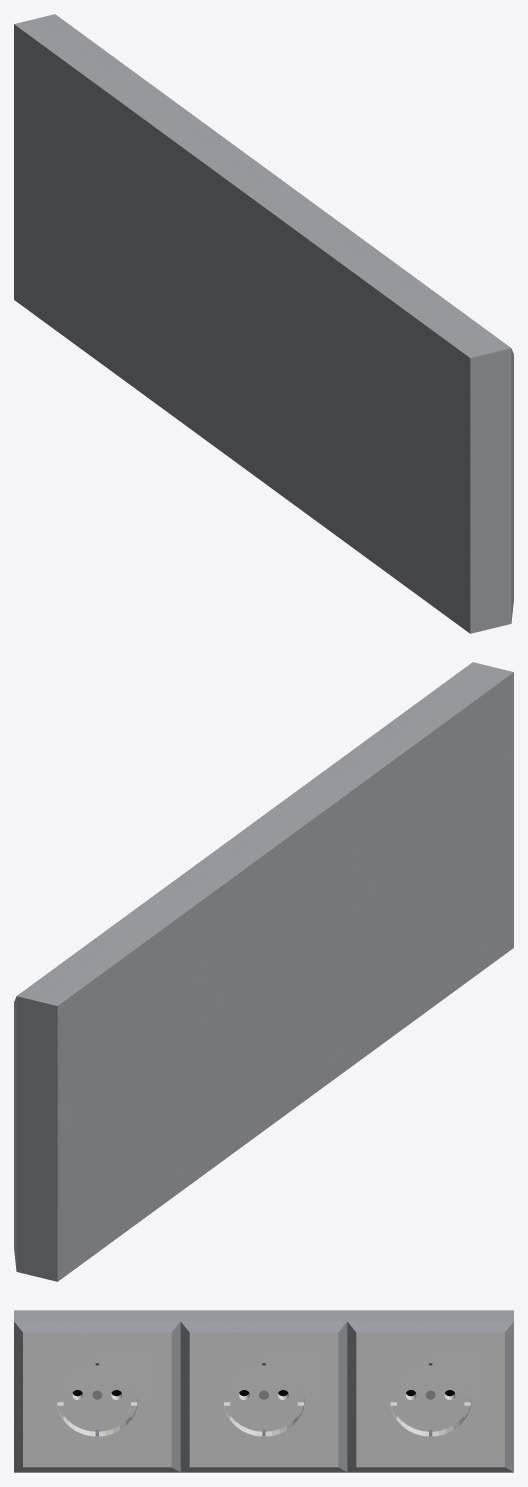
File: Steckdose_3er_rot.fbx
3 renders of one model, top to bottom at view 1: azimuth 30°, elevation 25°; view 2: azimuth 150°, elevation 25°; view 3: azimuth 270°, elevation 25°, orthographic. The views are drawn at different scales.
Visible parts, largest first — view 1: steckdose; view 2: steckdose; view 3: steckdose.
Part boxes in pixels (left/top/right/bottom): steckdose: left=14, top=14, right=513, bottom=633; steckdose: left=14, top=662, right=513, bottom=1281; steckdose: left=14, top=1310, right=513, bottom=1472.
Size of the model in its own units: 1.62 by 8.2 by 24.6.
